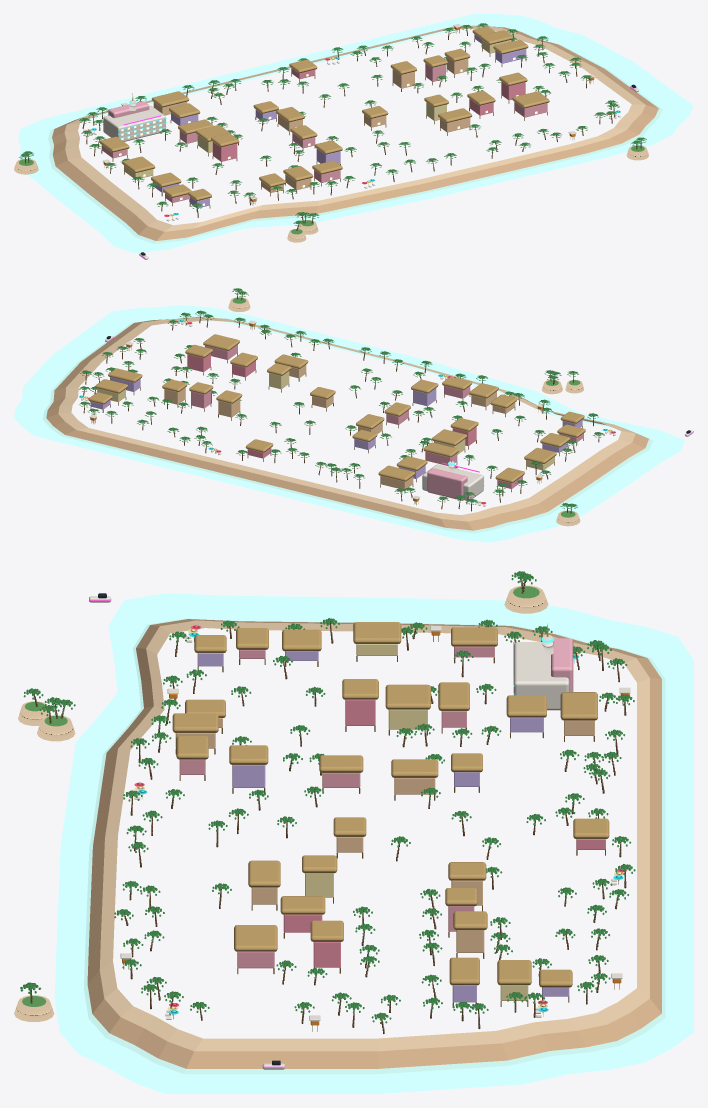
Rendered from by_flamingo.glb.
3 views of the same model, one above another, from view 1: azimuth 30°, elevation 25°; view 2: azimuth 150°, elevation 25°; view 3: azimuth 270°, elevation 25° (orthographic). The views are drawn at different scales.
Visible parts, largest first — view 1: Lavt vand_net, Byen_net, Stranden_net, Palmer_net, Hotellet_net, Holme_net; view 2: Lavt vand_net, Byen_net, Stranden_net, Palmer_net, Hotellet_net, Holme_net; view 3: Lavt vand_net, Stranden_net, Byen_net, Palmer_net, Hotellet_net, Holme_net, Holmtraer_net.
Boxes of the visible parts, x1,y1,x2,y2 form: Lavt vand_net: (18, 14, 693, 253); Byen_net: (99, 26, 549, 211); Stranden_net: (49, 24, 660, 242); Palmer_net: (79, 23, 619, 217); Hotellet_net: (103, 93, 166, 141); Holme_net: (14, 145, 648, 242); Lavt vand_net: (14, 305, 684, 542); Byen_net: (88, 334, 585, 493); Stranden_net: (44, 317, 651, 531); Palmer_net: (79, 310, 604, 511); Hotellet_net: (422, 455, 484, 500); Holme_net: (228, 297, 583, 526); Lavt vand_net: (54, 593, 693, 1093); Stranden_net: (85, 619, 664, 1073); Byen_net: (172, 622, 609, 1008); Palmer_net: (114, 618, 635, 1033); Hotellet_net: (513, 623, 573, 710); Holme_net: (14, 585, 548, 1021); Holmtraer_net: (20, 571, 536, 1003).
Size of the model in its own units: 95.4 by 7.2 by 54.75.
